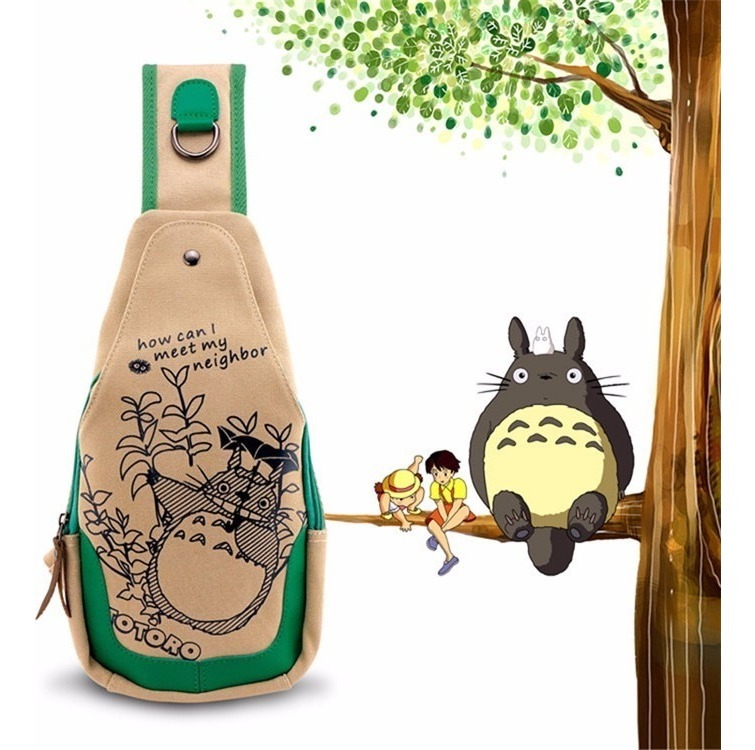Totoro: (465, 315, 641, 583), (135, 441, 282, 641)
